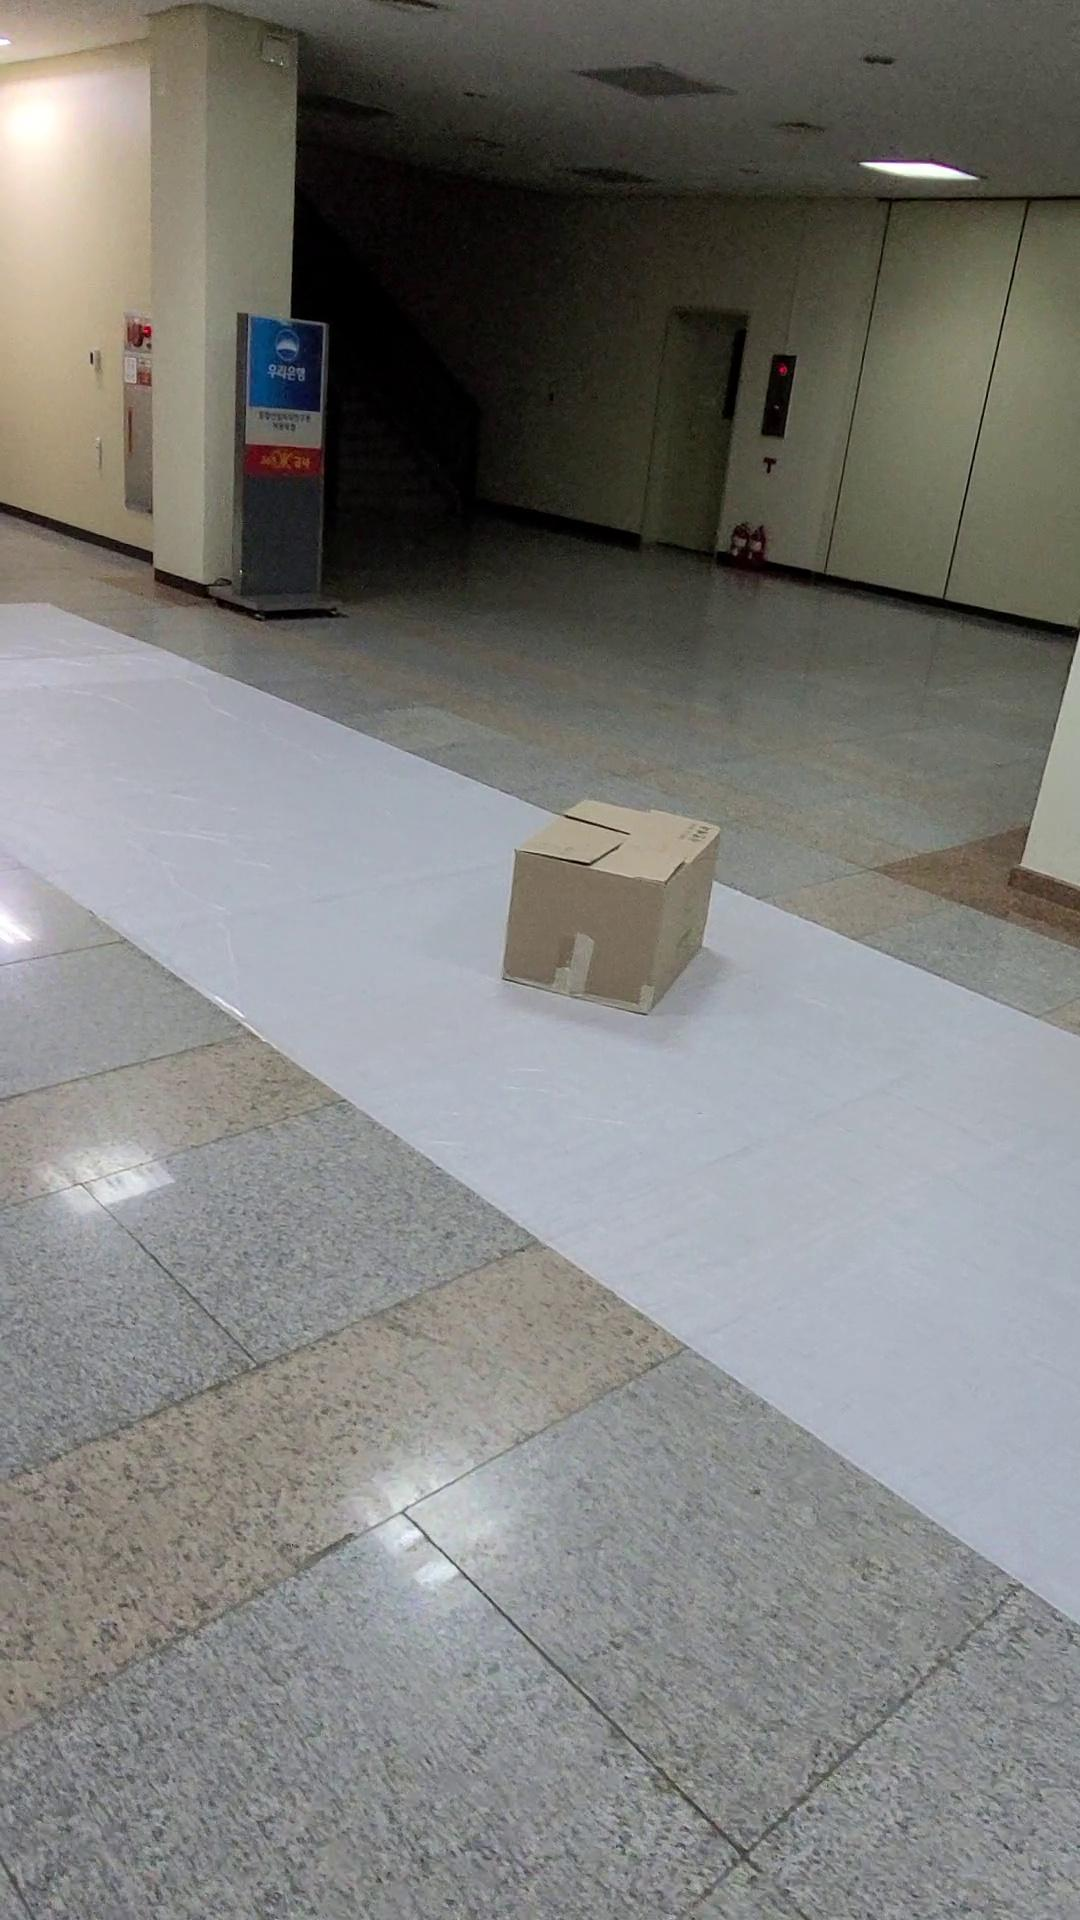Box: (473, 758, 732, 1048)
